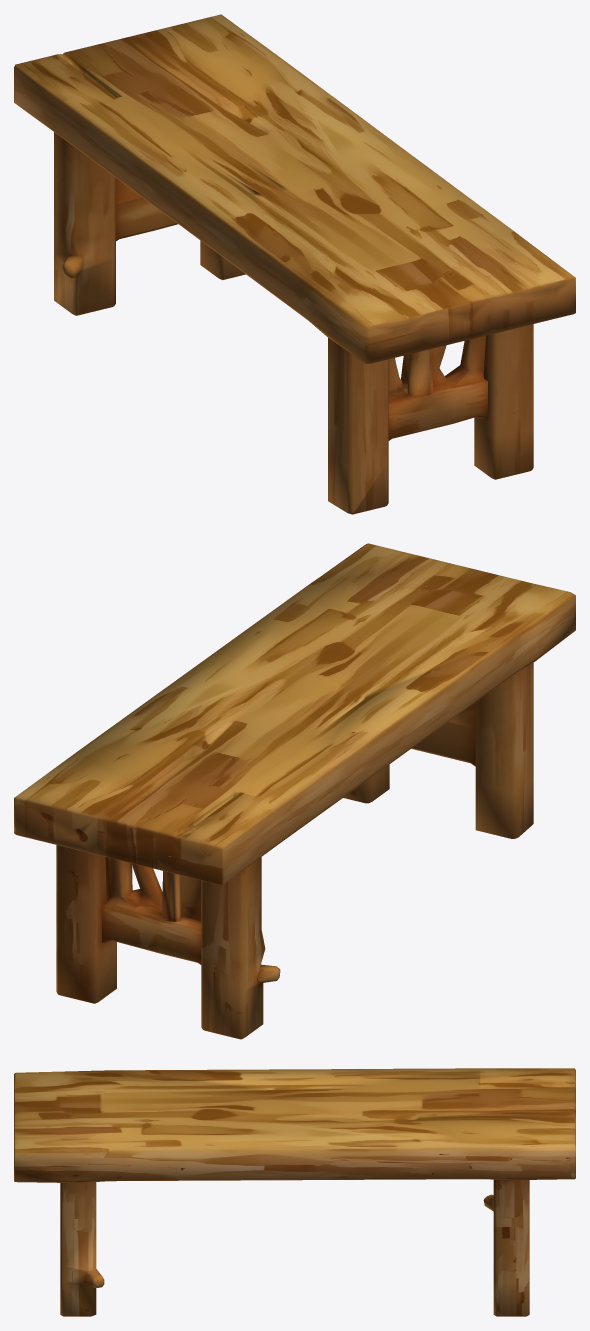
Rendered from gym_wood_bench.glb.
3 renders of one model, top to bottom at view 1: azimuth 30°, elevation 25°; view 2: azimuth 150°, elevation 25°; view 3: azimuth 270°, elevation 25°, orthographic. The views are drawn at different scales.
Parts seen in each view (by area): view 1: tripo_node_82a9e1c6-c83b-4686-81be-3ed082eb66cb; view 2: tripo_node_82a9e1c6-c83b-4686-81be-3ed082eb66cb; view 3: tripo_node_82a9e1c6-c83b-4686-81be-3ed082eb66cb.
Boxes of the visible parts, bbox=[...] form: tripo_node_82a9e1c6-c83b-4686-81be-3ed082eb66cb: bbox=[14, 14, 575, 514]; tripo_node_82a9e1c6-c83b-4686-81be-3ed082eb66cb: bbox=[14, 543, 575, 1039]; tripo_node_82a9e1c6-c83b-4686-81be-3ed082eb66cb: bbox=[14, 1068, 575, 1316].
Size of the model in its own units: 0.3601 by 0.3405 by 1.
Materials: 1 (1 with a texture image).
